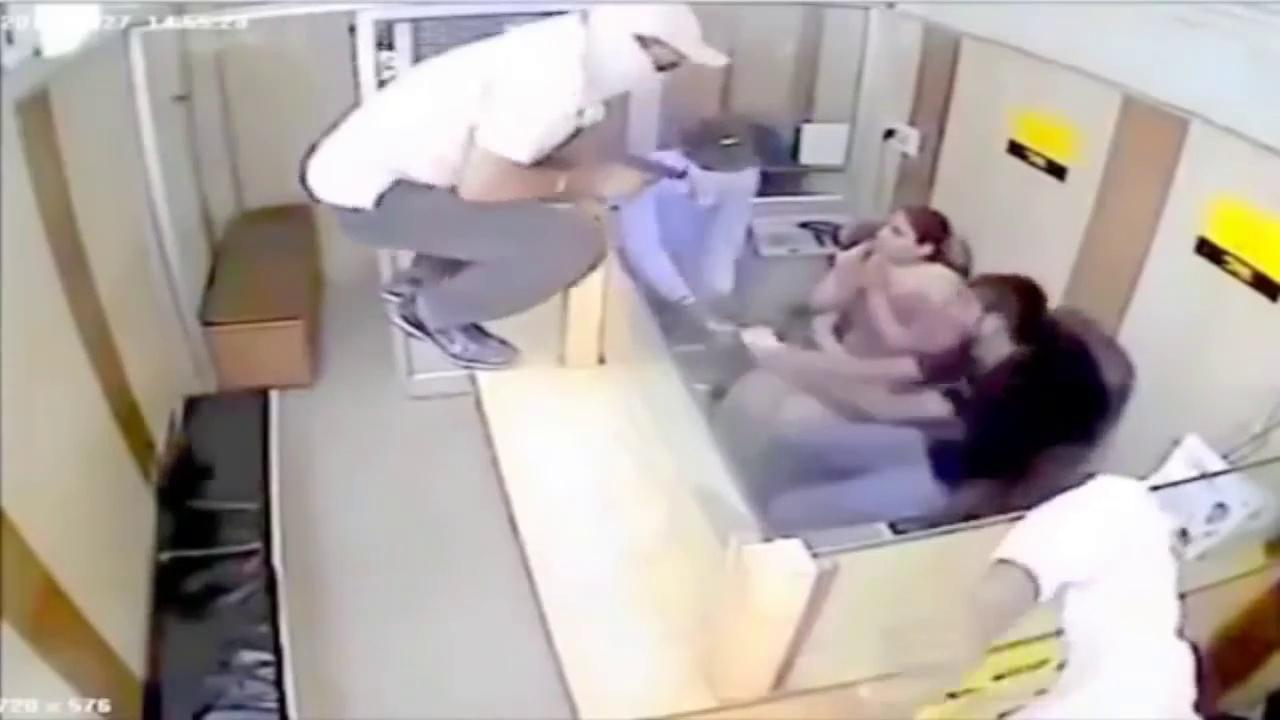weapon: (612, 150, 695, 199)
